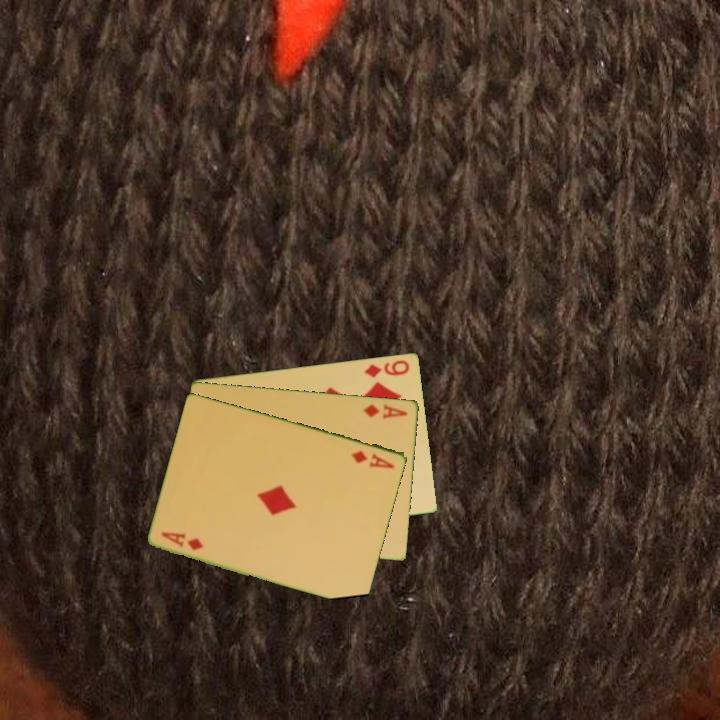9d: (361, 356, 412, 380)
Ad: (158, 528, 207, 553), (348, 447, 397, 471), (360, 400, 410, 422)
